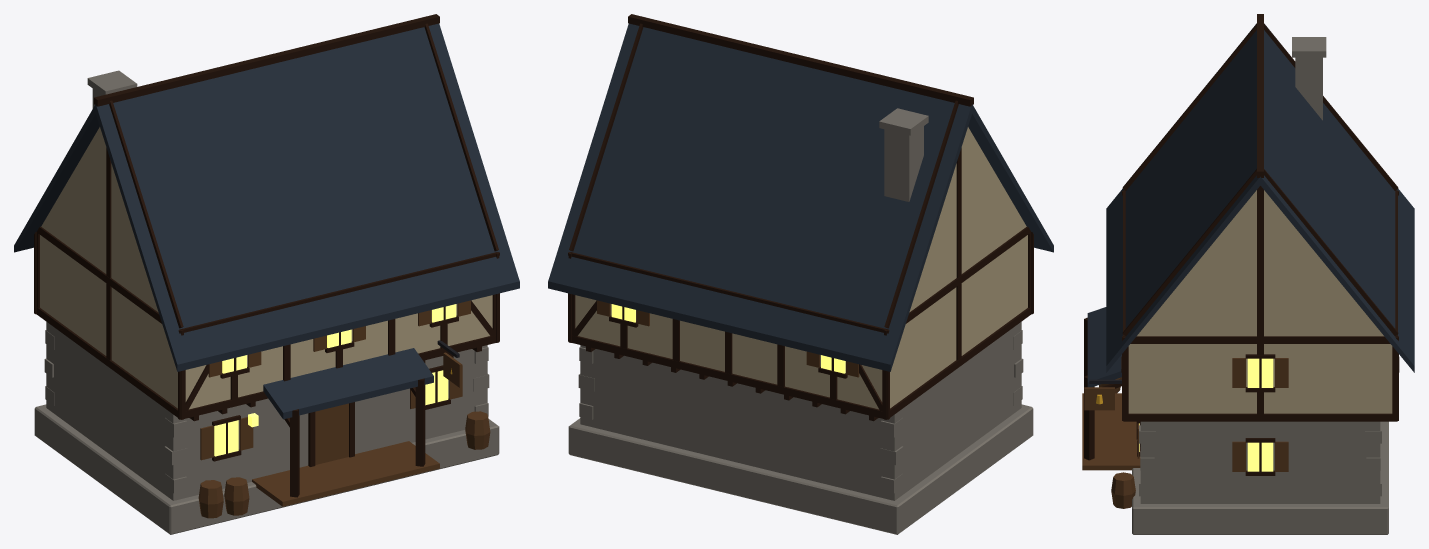
The model's file is taberna.fbx.
3 renders of one model, left to right at view 1: azimuth 30°, elevation 25°; view 2: azimuth 150°, elevation 25°; view 3: azimuth 270°, elevation 25°, orthographic. The views are drawn at different scales.
Visible parts, largest first — view 1: taberna; view 2: taberna; view 3: taberna.
Boxes of the visible parts, x1,y1,x2,y2 form: taberna: (14, 14, 519, 534); taberna: (548, 14, 1053, 534); taberna: (1082, 14, 1414, 534).
Bounding box in the file's own units: 10.9 × 11.82 × 9.7.
